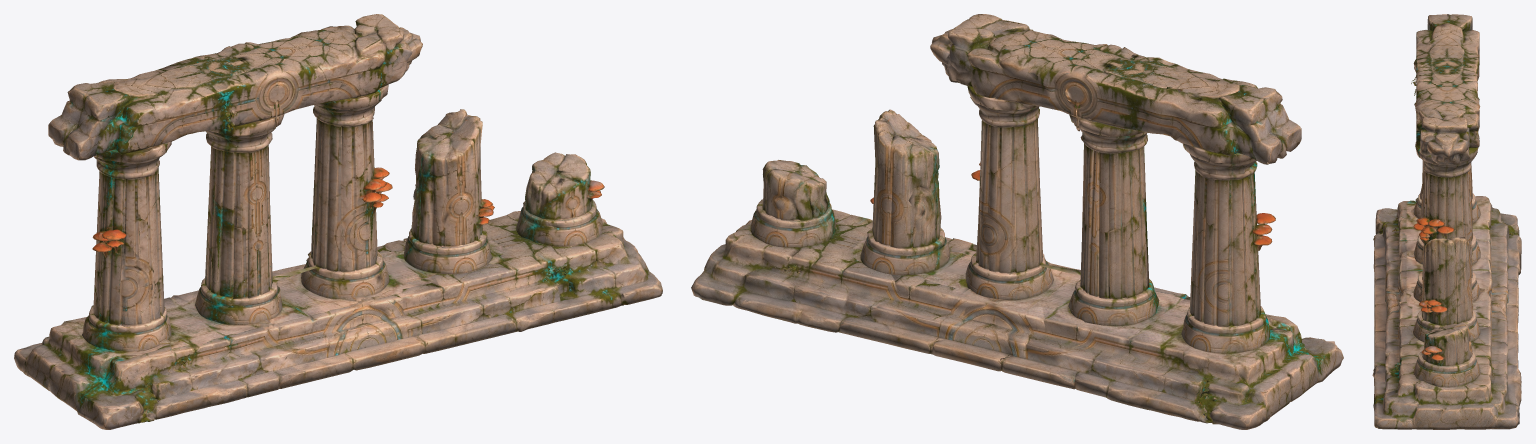
The model's file is citadel_colonnade.fbx.
3 renders of one model, left to right at view 1: azimuth 30°, elevation 25°; view 2: azimuth 150°, elevation 25°; view 3: azimuth 270°, elevation 25°, orthographic. The views are drawn at different scales.
Parts seen in each view (by area): view 1: citadel_colonnade; view 2: citadel_colonnade; view 3: citadel_colonnade.
Part boxes in pixels (x1=…): citadel_colonnade: x1=14, y1=14, x2=662, y2=429; citadel_colonnade: x1=691, y1=14, x2=1343, y2=429; citadel_colonnade: x1=1372, y1=14, x2=1521, y2=429.
Size of the model in its own units: 18 by 8.9 by 5.43.
